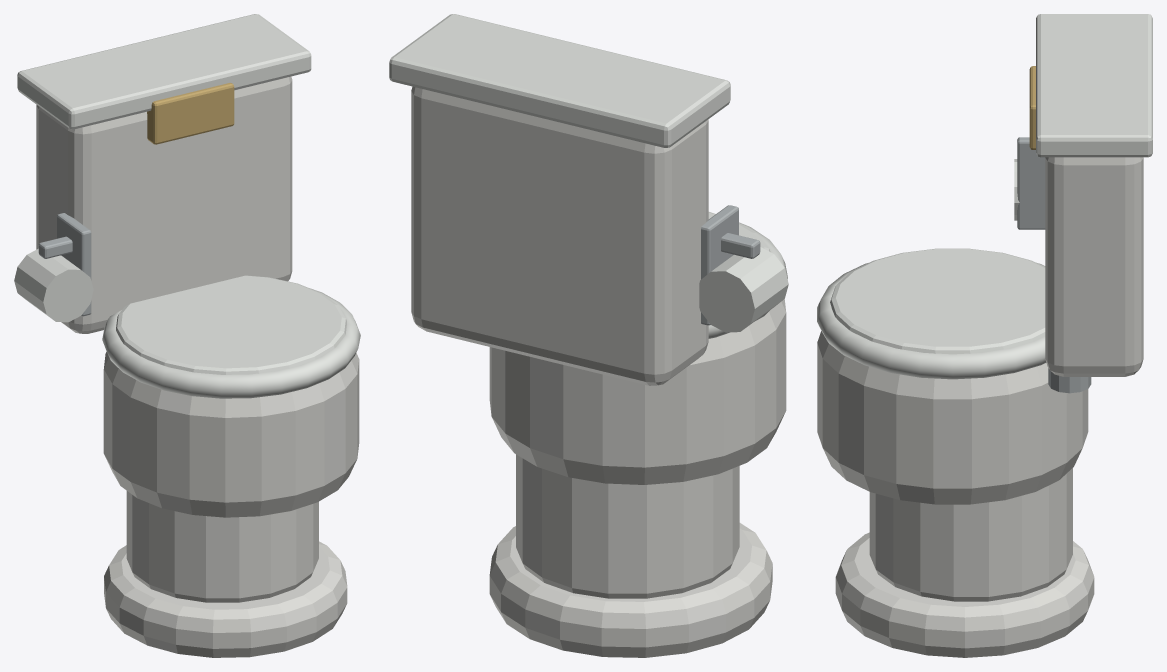
The model's file is toilet.glb.
3 views of the same model, side by side, from view 1: azimuth 30°, elevation 25°; view 2: azimuth 150°, elevation 25°; view 3: azimuth 270°, elevation 25° (orthographic). The views are drawn at different scales.
Visible parts, largest first — view 1: toilet; view 2: toilet; view 3: toilet.
Boxes of the visible parts, x1,y1,x2,y2 form: toilet: (14, 14, 360, 657); toilet: (389, 14, 788, 657); toilet: (817, 14, 1152, 657).
Size of the model in its own units: 0.555 by 0.96 by 0.5454.
